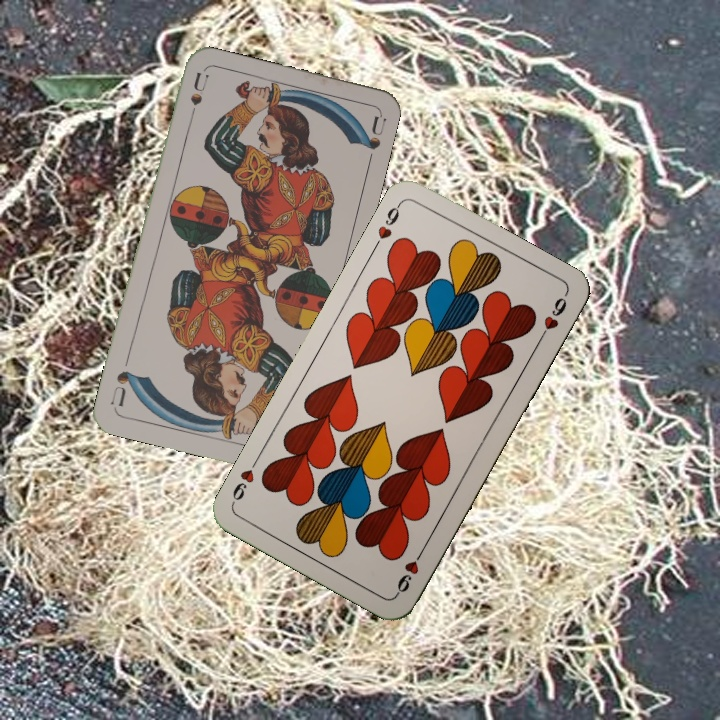H9: (391, 544, 428, 597), (369, 198, 404, 252)
SU: (183, 69, 210, 129)
